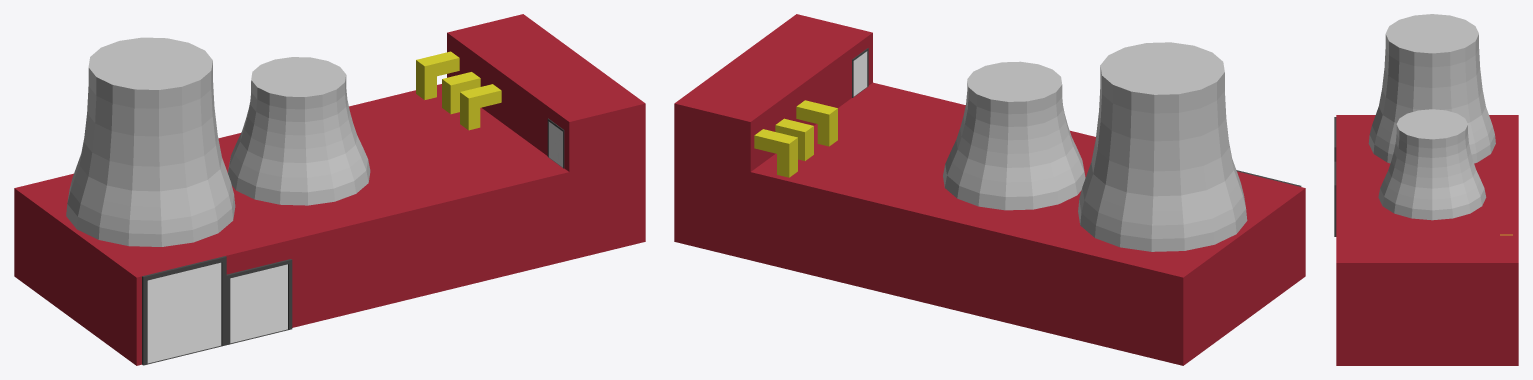
Rendered from Red_Factory.fbx.
3 renders of one model, left to right at view 1: azimuth 30°, elevation 25°; view 2: azimuth 150°, elevation 25°; view 3: azimuth 270°, elevation 25°, orthographic. The views are drawn at different scales.
Parts seen in each view (by area): view 1: Cube.035; view 2: Cube.035; view 3: Cube.035.
Boxes of the visible parts, box(x1,y1,x2,y2) form: Cube.035: box(14, 14, 645, 365); Cube.035: box(674, 14, 1305, 365); Cube.035: box(1334, 14, 1518, 365).
Bounding box in the file's own units: 3606 × 1597 × 1516.
